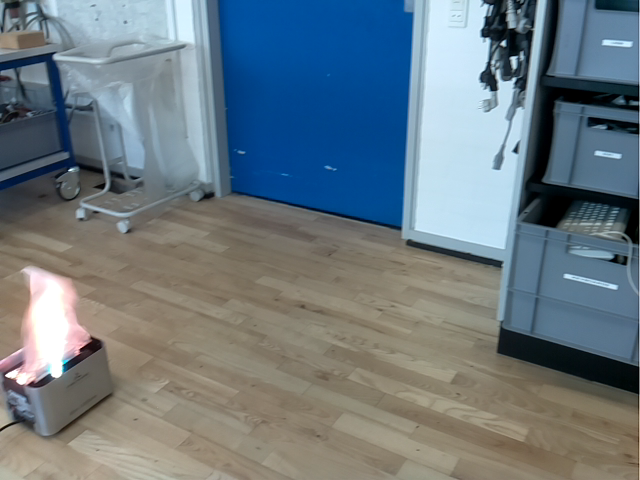fire: (19, 266, 92, 386)
